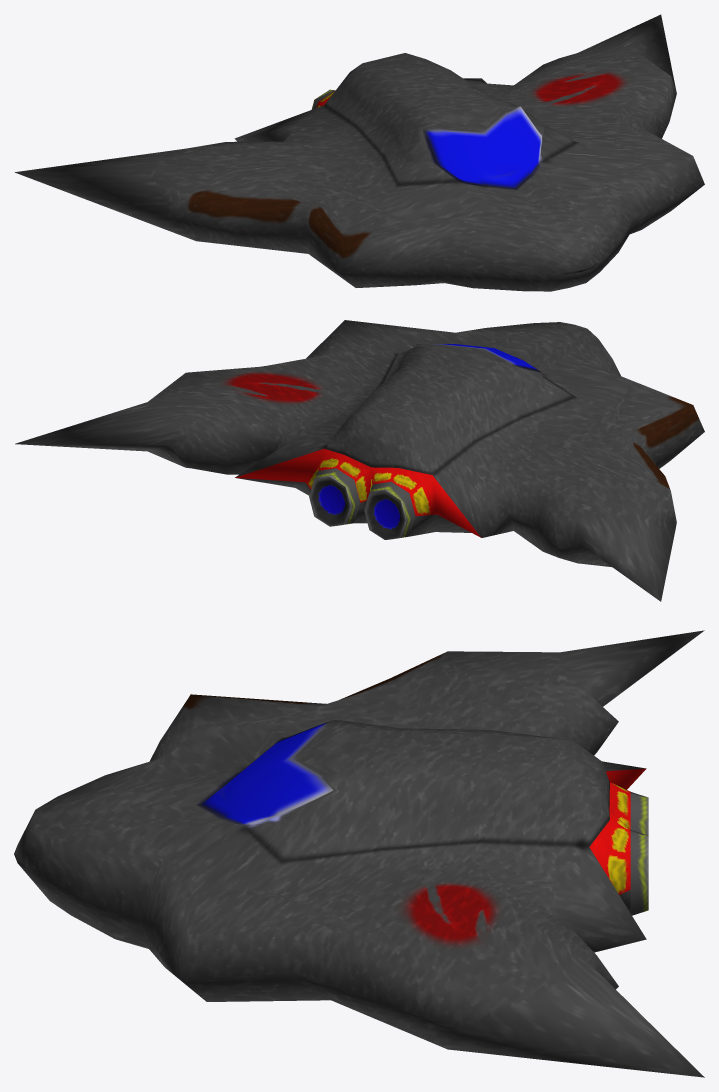
Rendered from SpaceShip9.fbx.
3 views of the same model, one above another, from view 1: azimuth 30°, elevation 25°; view 2: azimuth 150°, elevation 25°; view 3: azimuth 270°, elevation 25° (orthographic). The views are drawn at different scales.
Parts seen in each view (by area): view 1: pCube1; view 2: pCube1; view 3: pCube1.
Boxes of the visible parts, x1,y1,x2,y2 form: pCube1: (15, 14, 704, 291); pCube1: (15, 320, 704, 601); pCube1: (14, 630, 704, 1077).
Size of the model in its own units: 20.56 by 3.26 by 13.42.
